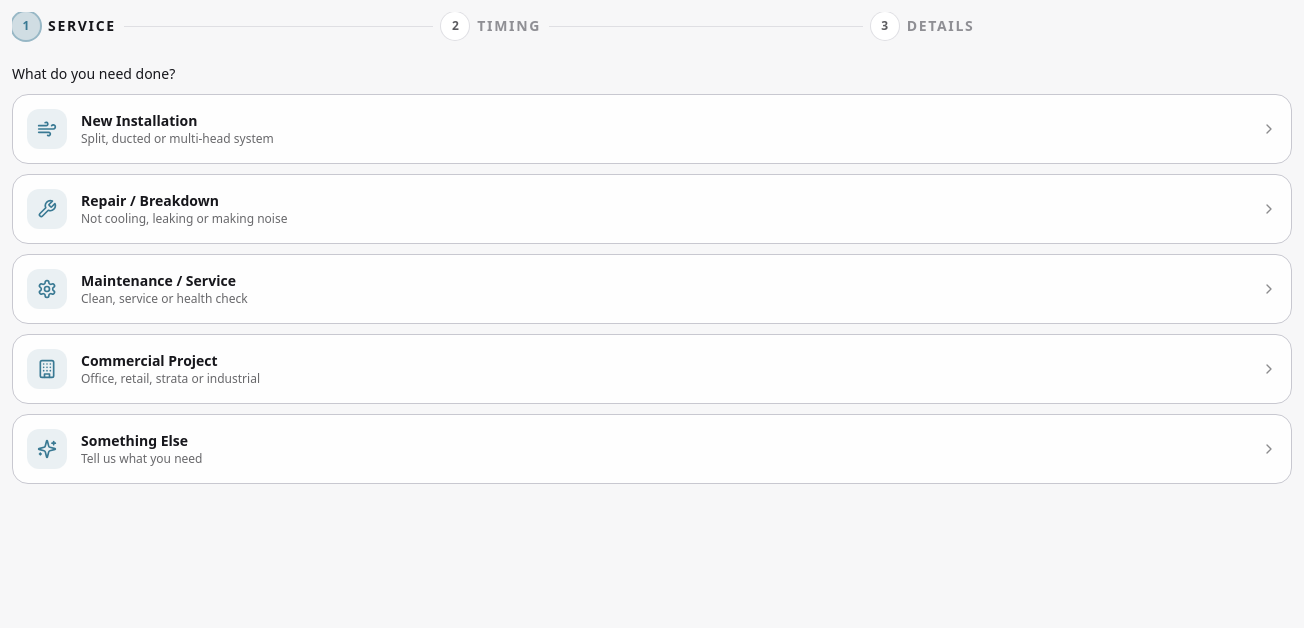
Test: QuoteWizard › shows the earlier answers as a recap on the details step
This screenshot has width=1304, height=628.
Click the text "Commercial Project": point(149, 360) [81,351,218,370]
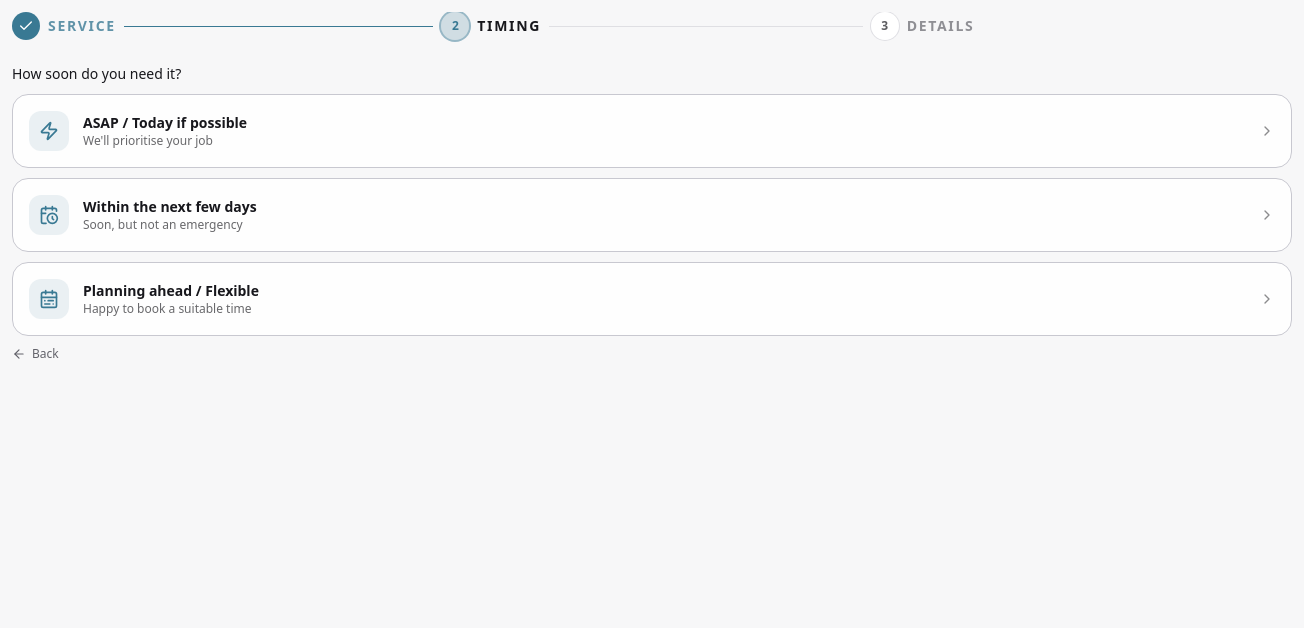
Click the text "Planning ahead / Flexible": point(171, 290) [83,281,259,300]
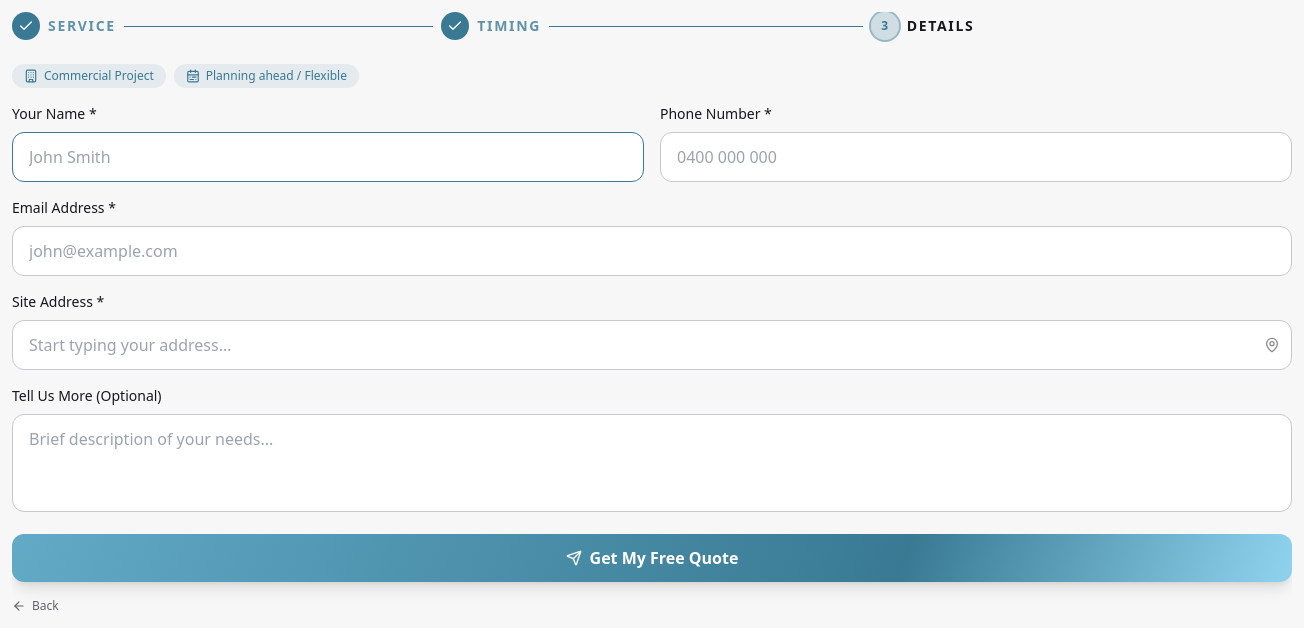
Now the text "Planning ahead / Flexible" is shown, box [174,64,359,88]
Now the field labelled "Your Name *" is shown, box [12,132,644,182]
Now the text "Commercial Project" is shown, box [12,64,166,88]
